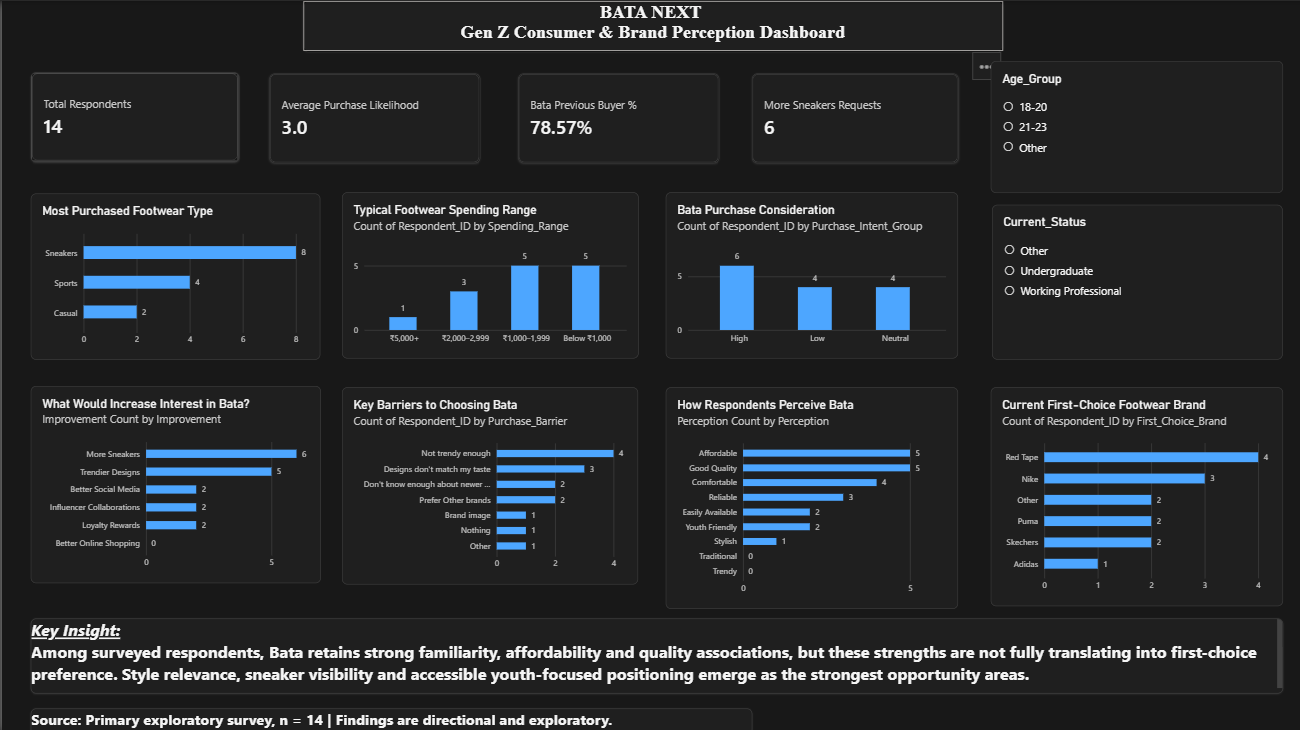

The dashboard page shown, as its layout file describes it:
{"tool":"powerbi","page":{"name":"Consumer Overview","canvas":[1920,1080],"ordinal":0},"visuals":[{"type":"textbox","box":[444,0,1030,74],"z":0},{"type":"cardVisual","fields":{"Data":["Survey_Data.Total Respondents"]},"box":[42.5,105,307.5,132.5],"z":1000},{"type":"cardVisual","fields":{"Data":["Survey_Data.Average Purchase Likelihood"]},"box":[394,106,310,132],"z":2000},{"type":"cardVisual","fields":{"Data":["Survey_Data.Bata Previous Buyer %"]},"box":[760,106,296,132],"z":3000},{"type":"cardVisual","fields":{"Data":["Survey_Data.More Sneakers Requests"]},"box":[1104,106,304,132],"z":4000},{"type":"clusteredBarChart","title":"Most Purchased Footwear Type","fields":{"Category":["Survey_Data.Footwear_Type"],"Y":["CountNonNull(Survey_Data.Respondent_ID)"]},"box":[41.7,283.3,426.7,245],"z":5000},{"type":"clusteredColumnChart","title":"Typical Footwear Spending Range","fields":{"Category":["Survey_Data.Spending_Range"],"Y":["CountNonNull(Survey_Data.Respondent_ID)"]},"box":[500,282.5,436.7,245],"z":6000},{"type":"clusteredBarChart","title":"Current First-Choice Footwear Brand","fields":{"Category":["Survey_Data.First_Choice_Brand"],"Y":["CountNonNull(Survey_Data.Respondent_ID)"]},"box":[1456,568,430,322],"z":7000},{"type":"clusteredColumnChart","title":"Bata Purchase Consideration","fields":{"Category":["Survey_Data.Purchase_Intent_Group"],"Y":["CountNonNull(Survey_Data.Respondent_ID)"]},"box":[977.5,282.5,430,245],"z":8000},{"type":"clusteredBarChart","title":"How Respondents Perceive Bata","fields":{"Category":["Bata_Perception_List.Perception"],"Y":["Bata_Perception_List.Perception Count"]},"box":[978,568,430,326],"z":9000},{"type":"clusteredBarChart","title":"Key Barriers to Choosing Bata","fields":{"Category":["Survey_Data.Purchase_Barrier"],"Y":["CountNonNull(Survey_Data.Respondent_ID)"]},"box":[500,568,436,290],"z":10000},{"type":"clusteredBarChart","title":"What Would Increase Interest in Bata?","fields":{"Category":["Improvement_List.Improvement"],"Y":["Improvement_List.Improvement Count"]},"box":[42.5,567.5,427.5,290],"z":11000},{"type":"listSlicer","fields":{"Values":["Survey_Data.Age_Group"]},"box":[1456,88,430,194],"z":12000},{"type":"listSlicer","fields":{"Values":["Survey_Data.Current_Status"]},"box":[1458,300,428,228],"z":13000},{"type":"textbox","box":[42,910,1844,110],"z":14000},{"type":"textbox","box":[42,1042,1062,38],"z":14001}]}

Visuals, with their boxes in screenshot pixels (x1, y1, x2, y2), scaled from the page's 1920x1080 canvas onto the 1300x730 screenshot:
textbox: {"x1": 301, "y1": 0, "x2": 998, "y2": 50}
cardVisual - Survey_Data.Total Respondents: {"x1": 29, "y1": 71, "x2": 237, "y2": 161}
cardVisual - Survey_Data.Average Purchase Likelihood: {"x1": 267, "y1": 72, "x2": 477, "y2": 161}
cardVisual - Survey_Data.Bata Previous Buyer %: {"x1": 515, "y1": 72, "x2": 715, "y2": 161}
cardVisual - Survey_Data.More Sneakers Requests: {"x1": 748, "y1": 72, "x2": 953, "y2": 161}
"Most Purchased Footwear Type" clusteredBarChart: {"x1": 28, "y1": 191, "x2": 317, "y2": 357}
"Typical Footwear Spending Range" clusteredColumnChart: {"x1": 339, "y1": 191, "x2": 634, "y2": 357}
"Current First-Choice Footwear Brand" clusteredBarChart: {"x1": 986, "y1": 384, "x2": 1277, "y2": 602}
"Bata Purchase Consideration" clusteredColumnChart: {"x1": 662, "y1": 191, "x2": 953, "y2": 357}
"How Respondents Perceive Bata" clusteredBarChart: {"x1": 662, "y1": 384, "x2": 953, "y2": 604}
"Key Barriers to Choosing Bata" clusteredBarChart: {"x1": 339, "y1": 384, "x2": 634, "y2": 580}
"What Would Increase Interest in Bata?" clusteredBarChart: {"x1": 29, "y1": 384, "x2": 318, "y2": 580}
listSlicer - Survey_Data.Age_Group: {"x1": 986, "y1": 59, "x2": 1277, "y2": 191}
listSlicer - Survey_Data.Current_Status: {"x1": 987, "y1": 203, "x2": 1277, "y2": 357}
textbox: {"x1": 28, "y1": 615, "x2": 1277, "y2": 689}
textbox: {"x1": 28, "y1": 704, "x2": 748, "y2": 729}
